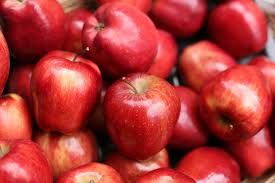apple: (103, 76, 175, 147), (30, 57, 101, 128), (76, 8, 153, 69), (200, 73, 267, 137), (33, 129, 103, 176), (1, 3, 59, 54), (211, 3, 269, 54), (186, 40, 233, 91), (179, 146, 241, 181), (6, 139, 54, 183), (56, 158, 122, 183)
